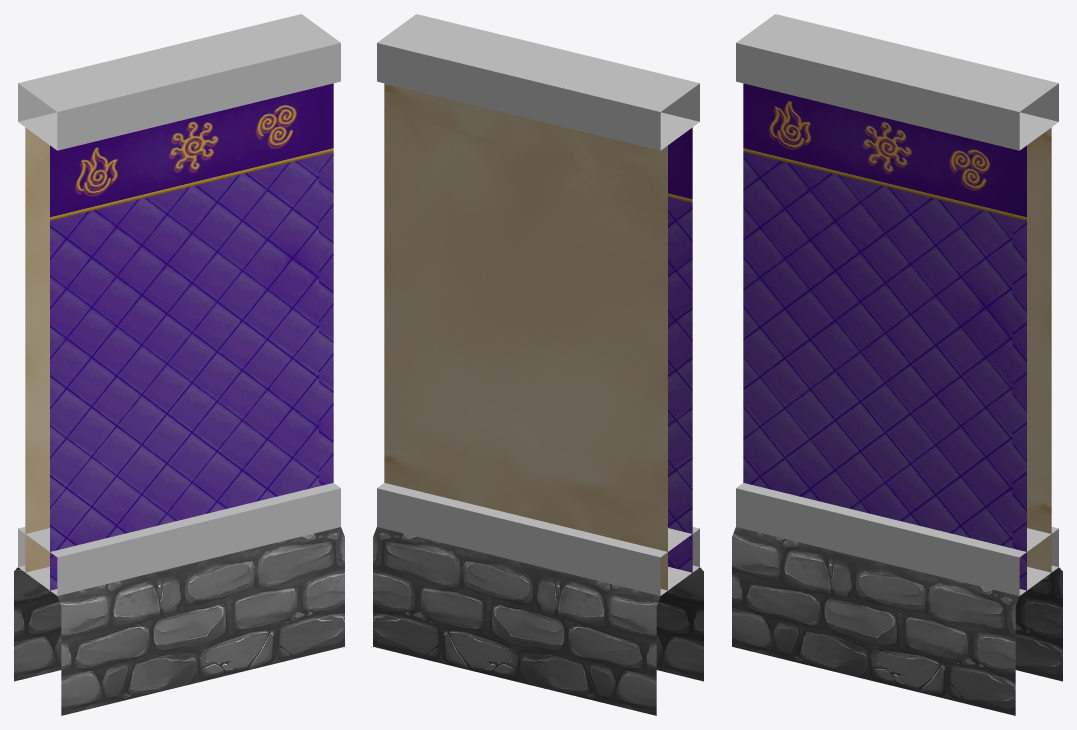
Rendered from MOD_Alchemist_wall.fbx.
The picture shows the model from 3 angles, left to right: view 1: azimuth 30°, elevation 25°; view 2: azimuth 150°, elevation 25°; view 3: azimuth 330°, elevation 25°; orthographic projection.
Visible parts, largest first — view 1: Alchemist_wall; view 2: Alchemist_wall; view 3: Alchemist_wall.
Boxes of the visible parts, x1=… form: Alchemist_wall: x1=14, y1=14, x2=344, y2=715; Alchemist_wall: x1=373, y1=14, x2=703, y2=715; Alchemist_wall: x1=732, y1=14, x2=1062, y2=715.
Bounding box in the file's own units: 78.74 × 22.62 × 159.
